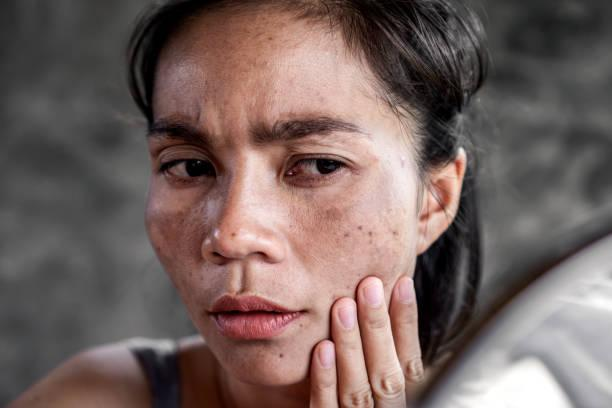Dry-Skin: (318, 188, 429, 287), (219, 29, 310, 113), (161, 52, 227, 149), (334, 72, 423, 140), (168, 193, 227, 269), (256, 306, 306, 367), (241, 194, 274, 272), (323, 44, 348, 72)
